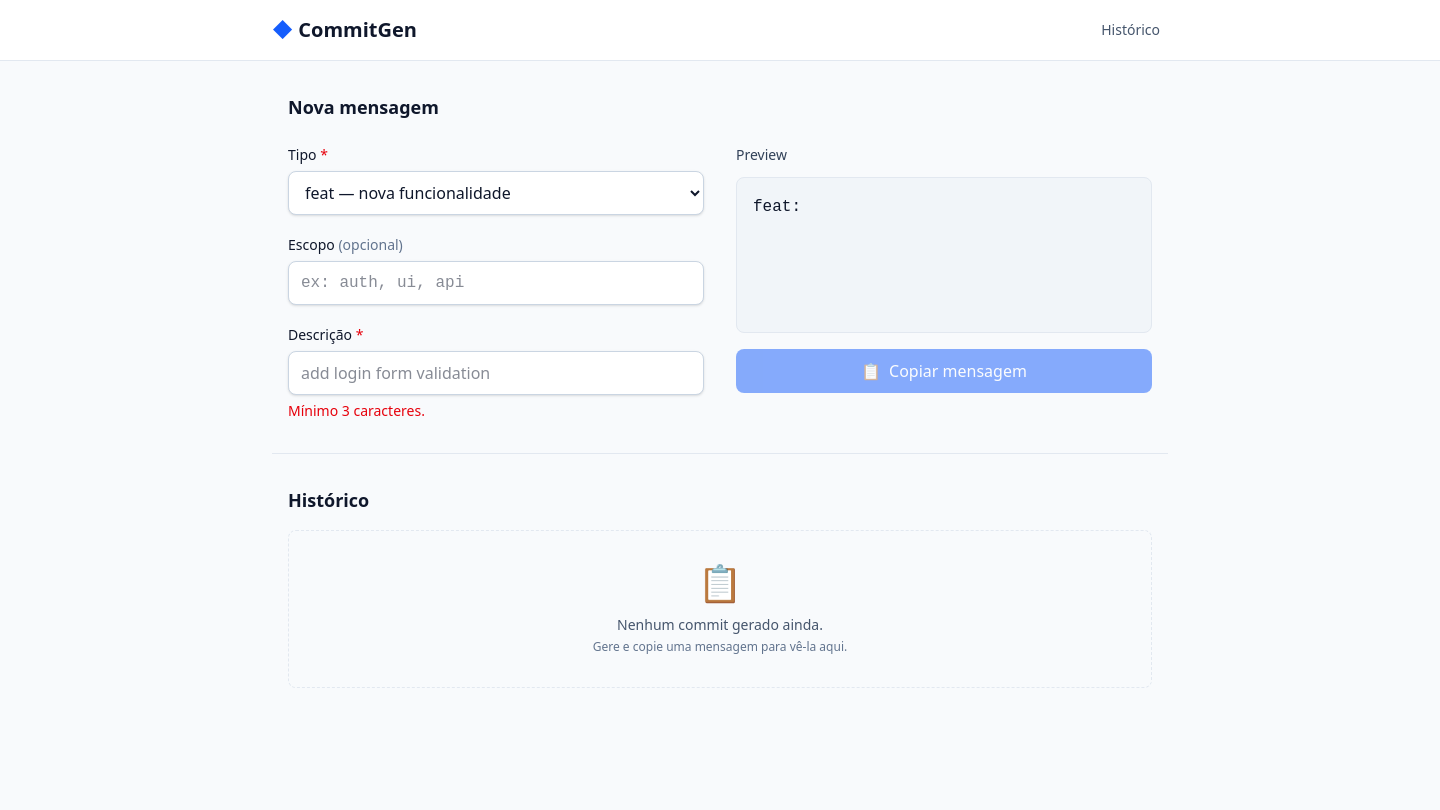
Scenario: App › copies commit message when form is valid
Step 1. Type "add login form" into the field labelled "Descrição *" → (496, 373), box [288,351,704,395]
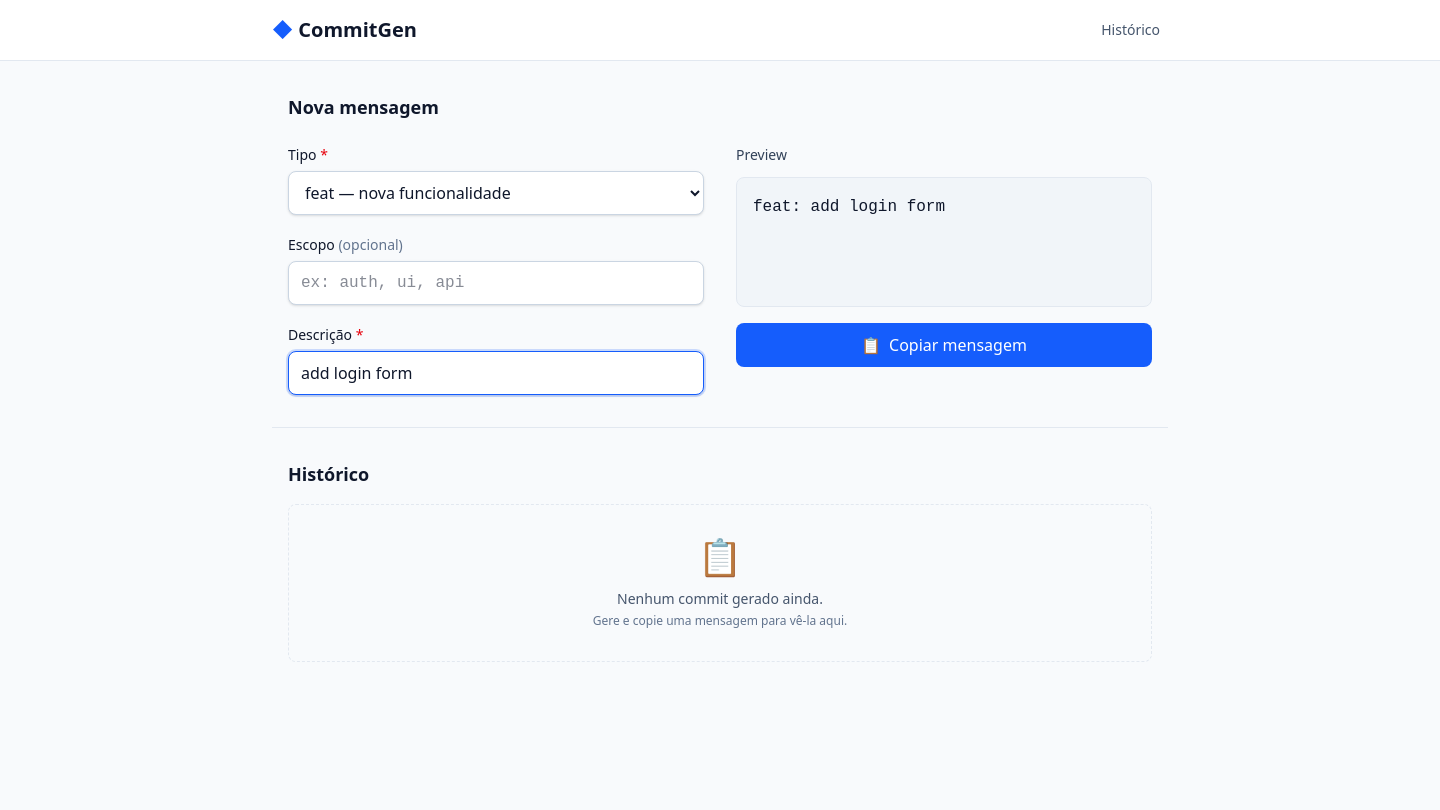
Now the button "📋 Copiar mensagem" is enabled
Step 2. Click the button "📋 Copiar mensagem" → (944, 345), box [736,323,1152,367]
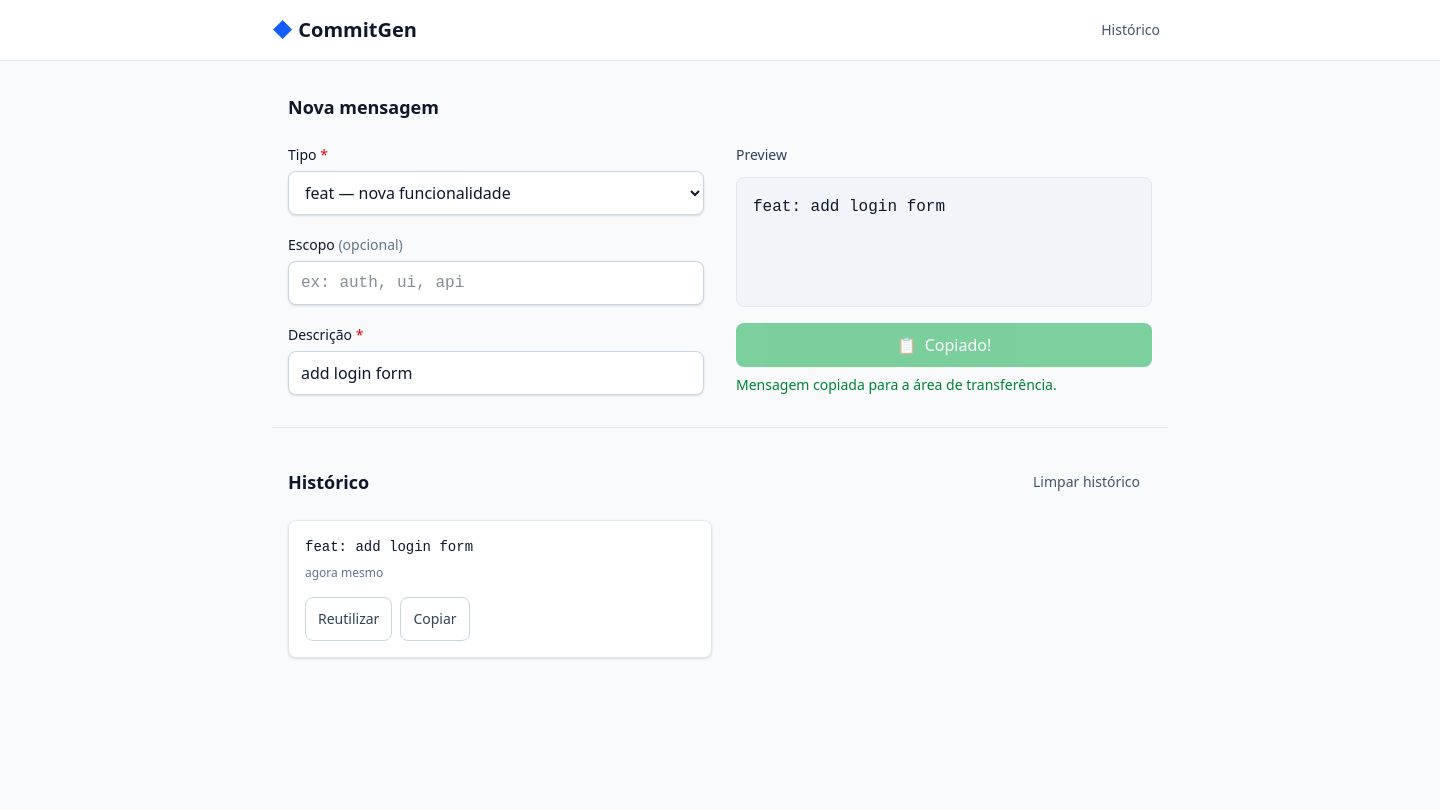
Now the message with test id "copy-feedback" shows "copiada", box [736,375,1057,394]
